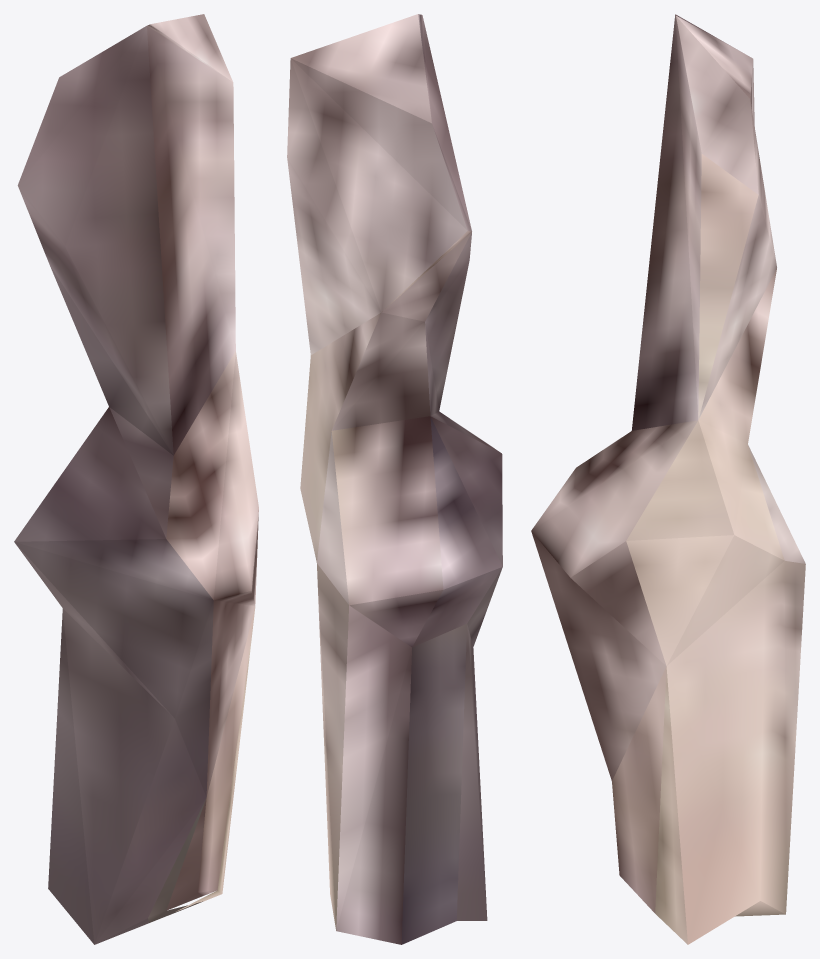
The picture shows the model from 3 angles, left to right: view 1: azimuth 30°, elevation 25°; view 2: azimuth 150°, elevation 25°; view 3: azimuth 270°, elevation 25°; orthographic projection.
Visible parts, largest first — view 1: Mesh_0; view 2: Mesh_0; view 3: Mesh_0.
Boxes of the visible parts, x1=… form: Mesh_0: x1=14, y1=14, x2=258, y2=944; Mesh_0: x1=287, y1=14, x2=502, y2=944; Mesh_0: x1=531, y1=14, x2=805, y2=944.
Bounding box in the file's own units: 1.62 × 6.59 × 1.83.
Materials: 1 (1 with a texture image).
